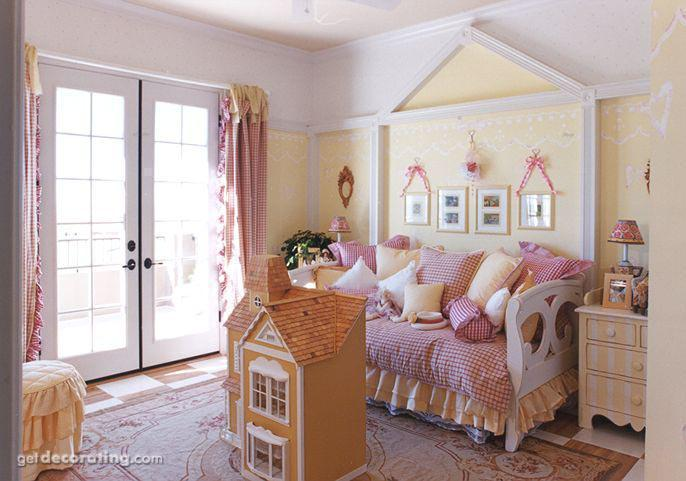Otro Obstaculo: (228, 275, 373, 477)
Puerta: (33, 64, 226, 361)
